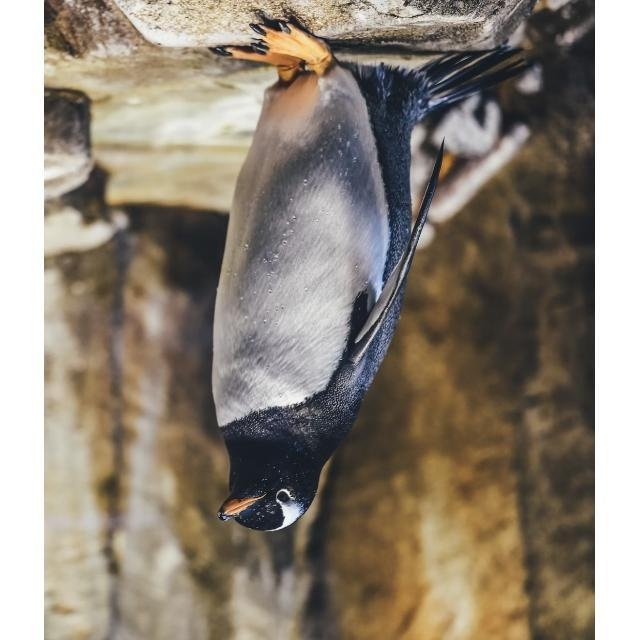penguin: (208, 17, 535, 532)
